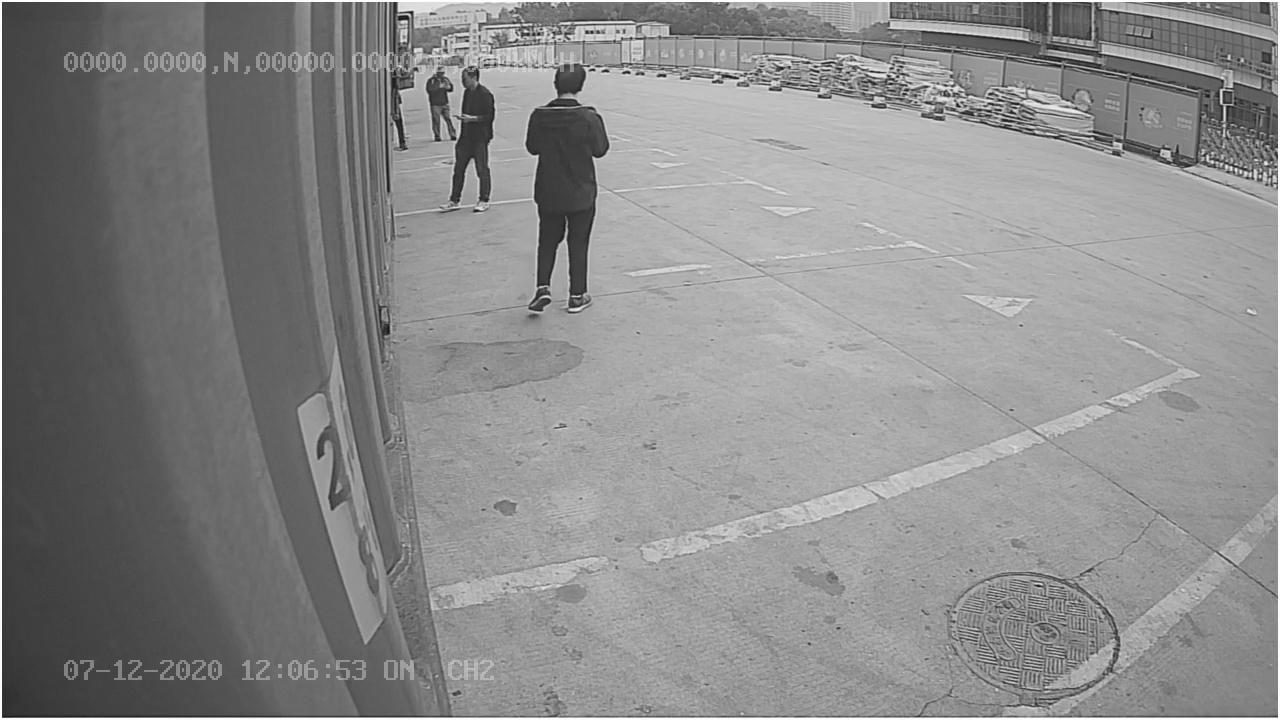person: (523, 58, 607, 319)
